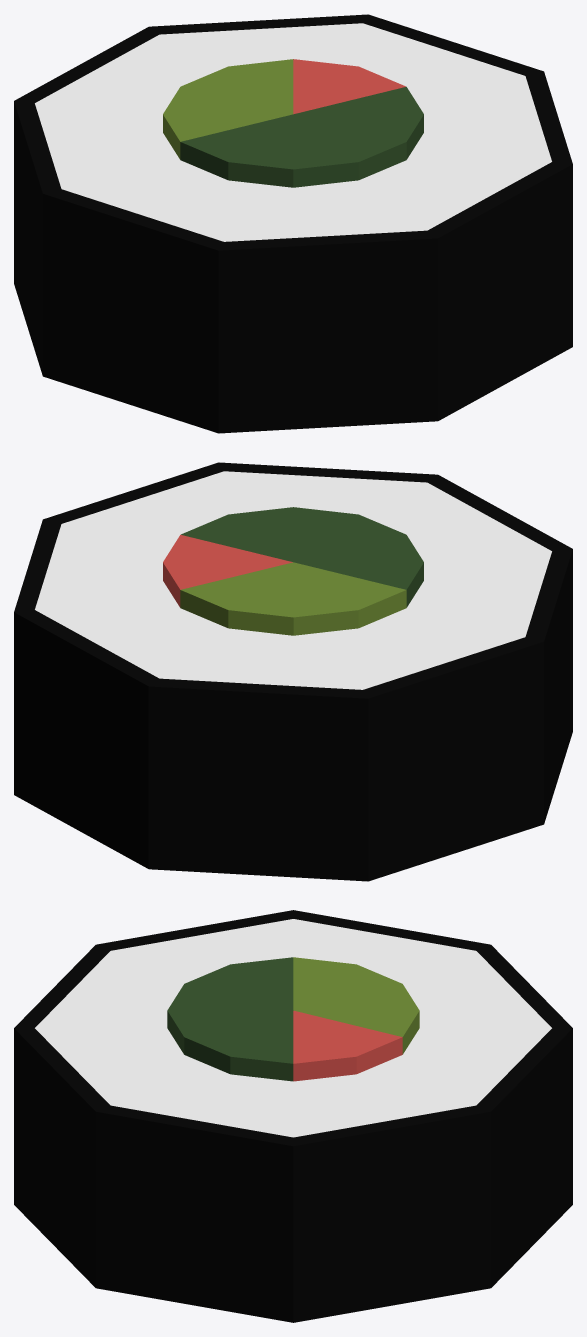
Rendered from sushi_01.fbx.
3 renders of one model, top to bottom at view 1: azimuth 30°, elevation 25°; view 2: azimuth 150°, elevation 25°; view 3: azimuth 270°, elevation 25°, orthographic. The views are drawn at different scales.
Visible parts, largest first — view 1: Cylinder013, Cylinder014; view 2: Cylinder013, Cylinder014; view 3: Cylinder013, Cylinder014.
Part boxes in pixels (x1,y1,x2,y2): Cylinder013: (14,14,572,433); Cylinder014: (163,59,423,187); Cylinder013: (14,462,572,881); Cylinder014: (163,507,423,635); Cylinder013: (14,910,572,1322); Cylinder014: (167,957,419,1081).
Size of the model in its own units: 287 by 120 by 287.
1 material, 1 textured.
